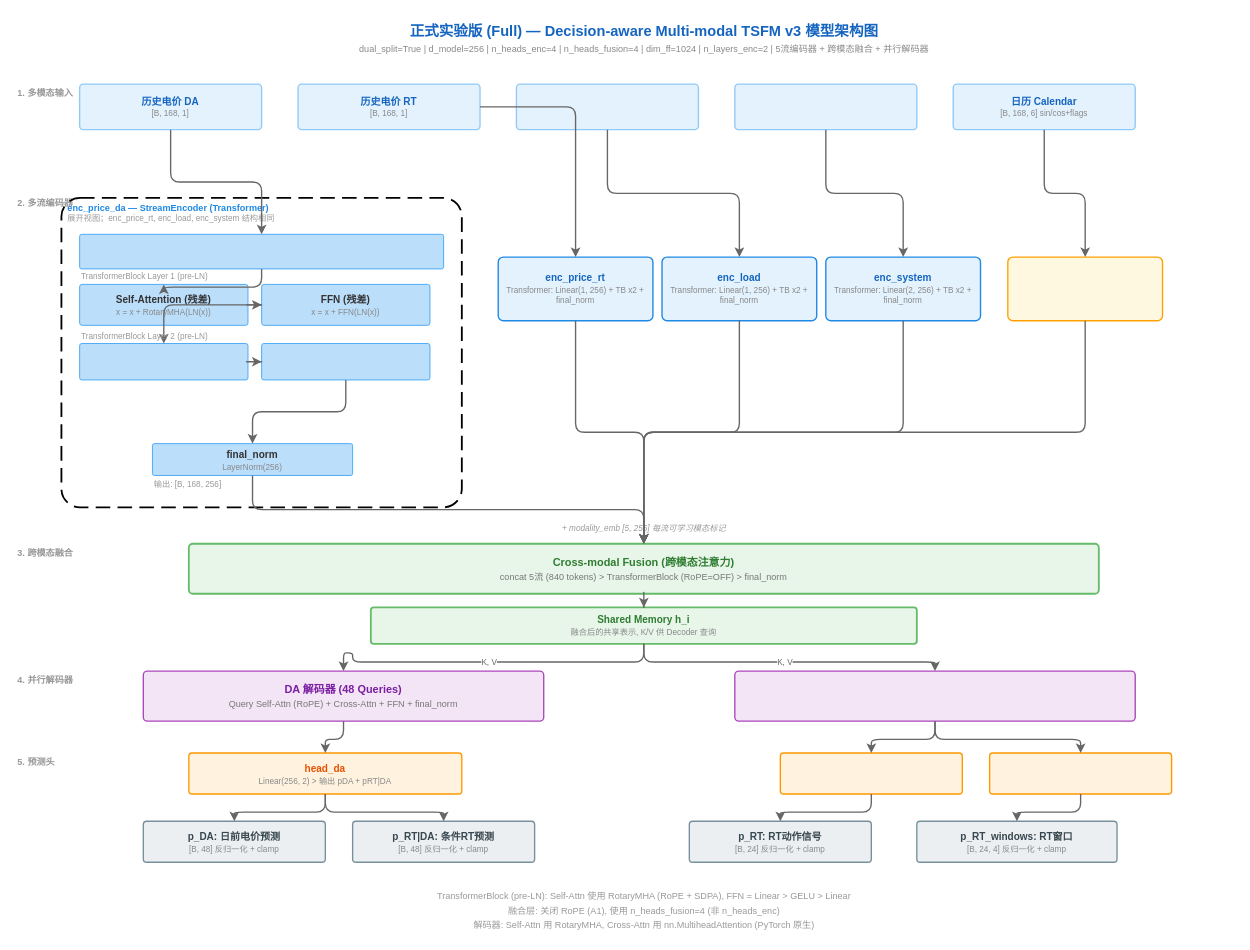
Some shapes in this 1250 by 950 pixel diagram are drawn without their labels. The centre of each missing label's shape, as x and y in pixels:
"enc_calendar MLP: Linear(6, 256) + GELU + final_norm" goes at (1085,288).
"FFN (残差) 同 Layer 1 结构" goes at (345,361).
"head_rt_action Linear(256, 1) > 每窗口第一步" goes at (871,773).
"head_rt_windows Linear(256, 4) > 完整窗口 H=4" goes at (1080,773).
"Linear Projection Linear(in_dim, 256)" goes at (261,251).
"RT 解码器 (24 Queries) 独立解码器, 结构同 DA, 24 个滚动窗口" goes at (934,695).
"Self-Attention (残差) 同 Layer 1 结构" goes at (163,361).
"历史负荷 Load [B, 168, 1]" goes at (607,106).
"系统变量 System [B, 168, 2] 风光+光伏" goes at (825,106).
